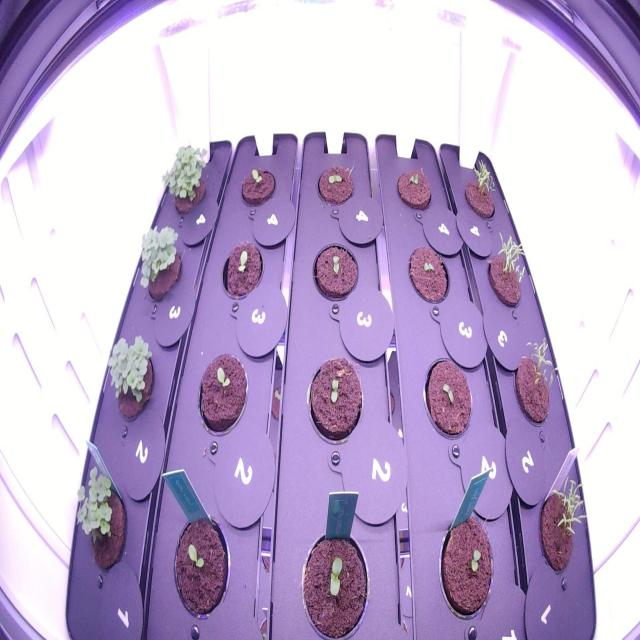germination: (296, 502, 375, 637), (430, 502, 500, 624), (169, 503, 234, 624), (68, 463, 130, 582), (534, 462, 593, 584), (506, 326, 566, 434), (301, 350, 367, 446), (419, 343, 478, 447), (98, 328, 158, 425), (194, 346, 251, 442), (134, 214, 186, 310), (482, 224, 534, 314), (160, 138, 214, 223), (307, 237, 363, 306), (456, 154, 508, 227), (401, 239, 454, 309), (218, 238, 270, 308), (391, 155, 436, 218), (235, 158, 280, 213), (312, 157, 358, 210)
